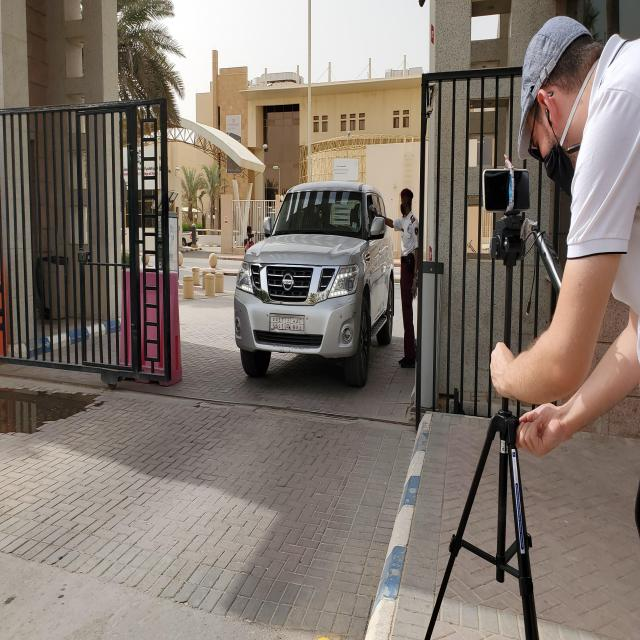license_plate: (270, 316, 304, 331)
